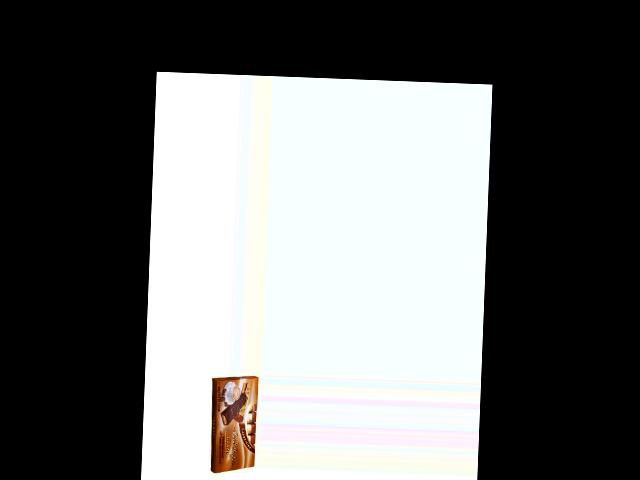chocolate: (208, 373, 259, 476)
